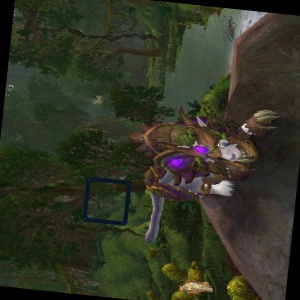square: (81, 175, 132, 227)
